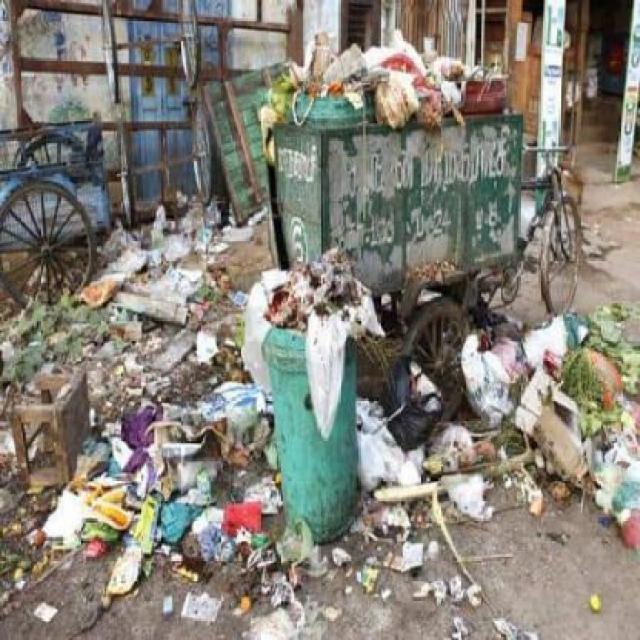garbage: (30, 308, 263, 580), (453, 323, 640, 496), (336, 385, 472, 541), (266, 37, 496, 126), (231, 237, 378, 353), (89, 218, 216, 330)
